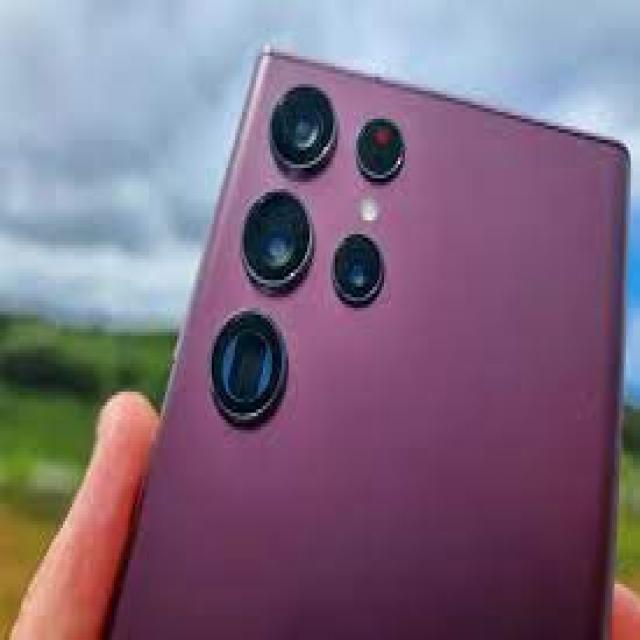lens: (187, 70, 425, 460)
phone: (99, 45, 630, 639)
